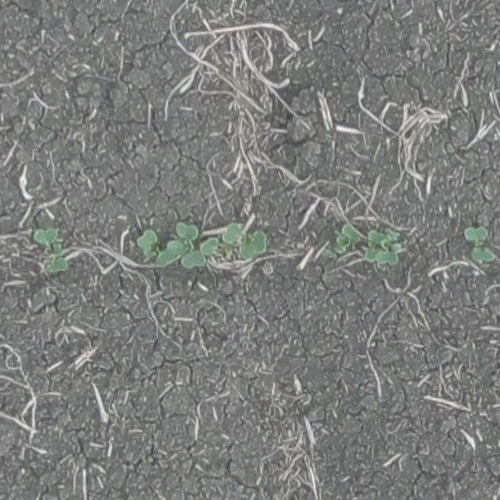clumped: (137, 223, 267, 266), (359, 228, 406, 268)
isolated: (32, 227, 69, 273), (463, 227, 496, 266), (330, 223, 359, 254)
